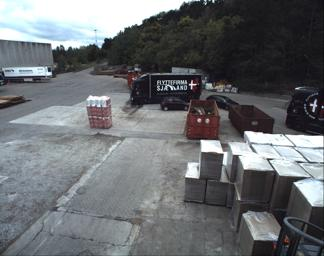rockwool_batts: (86, 95, 112, 128)
